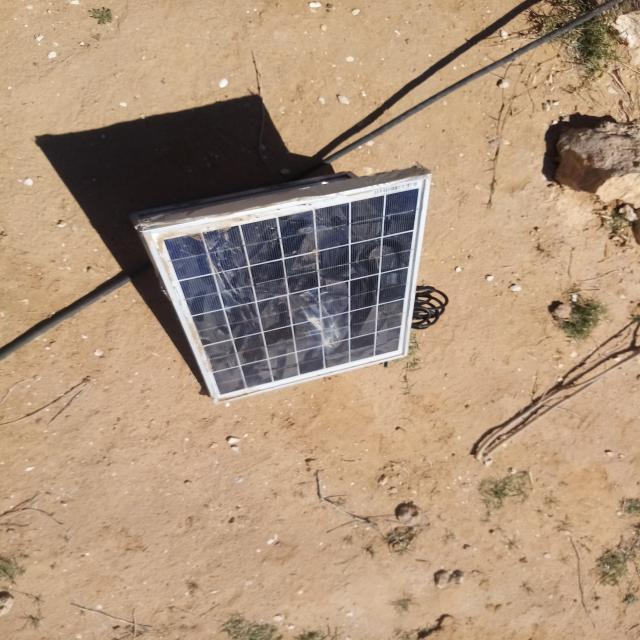faulty: (148, 176, 428, 403)
